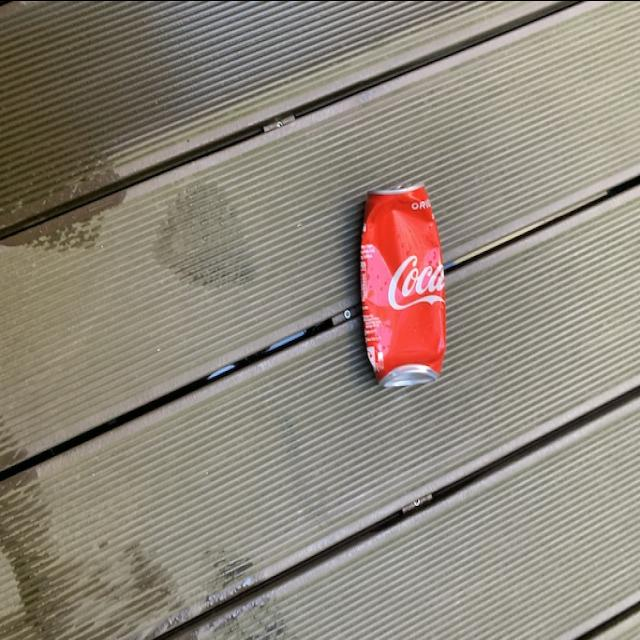Aluminum Can: (357, 169, 451, 395)
